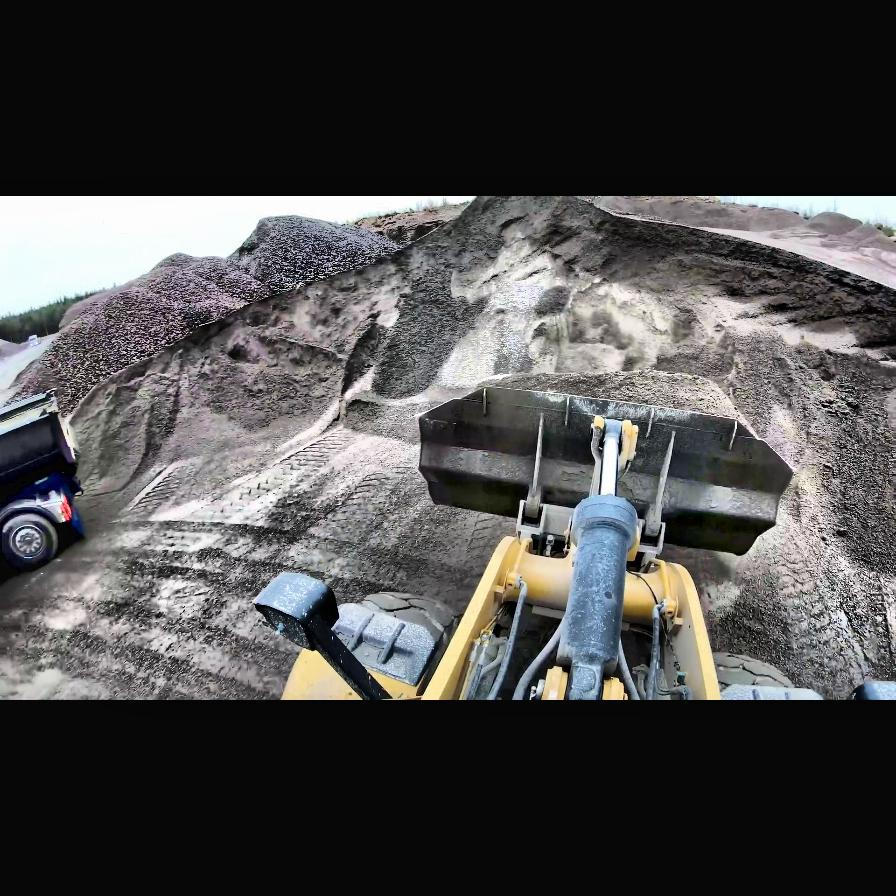anchor: (591, 416, 641, 494)
pile of gravel: (0, 196, 896, 488), (38, 252, 262, 412)
